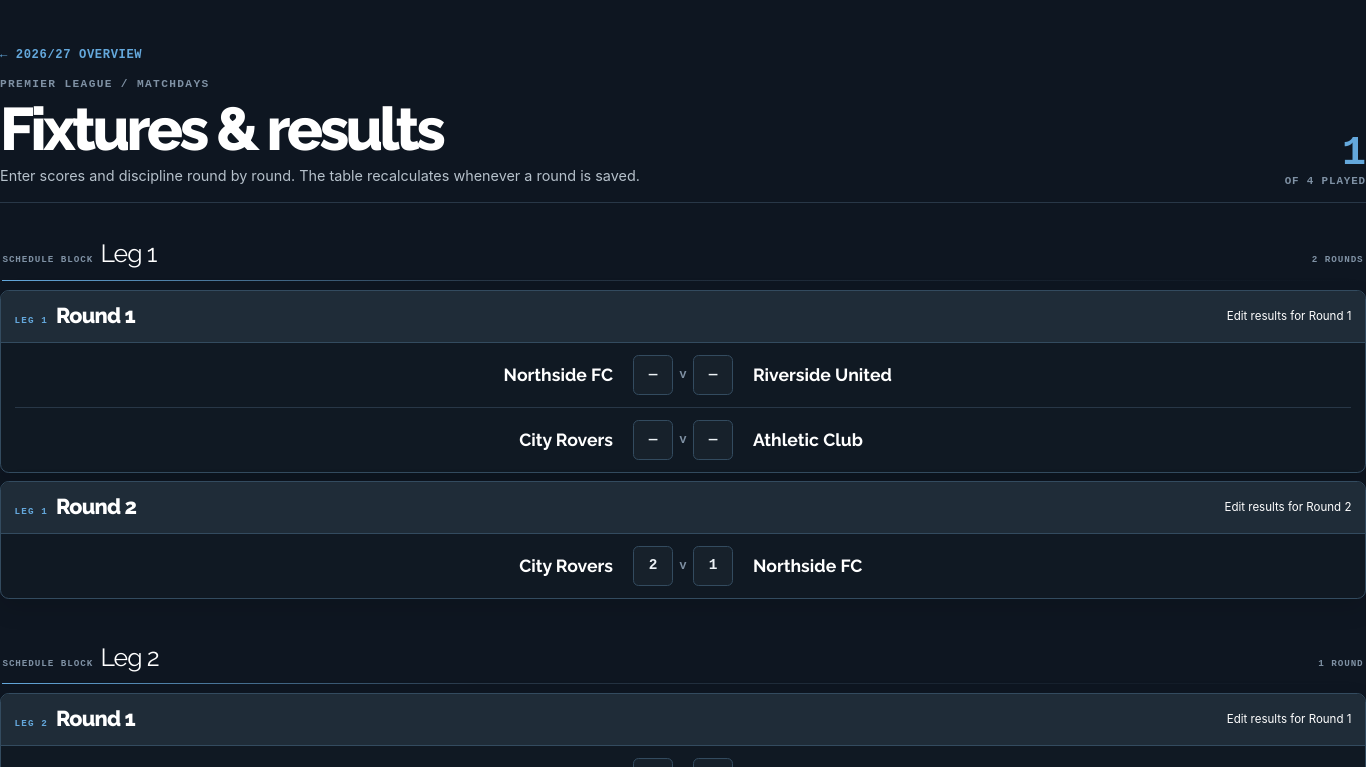
season fixtures view › edits and saves round scores and card counts
Click the button "Edit results for Round 1" below "2 rounds" at (1289, 316), box [1227,298,1351,334]
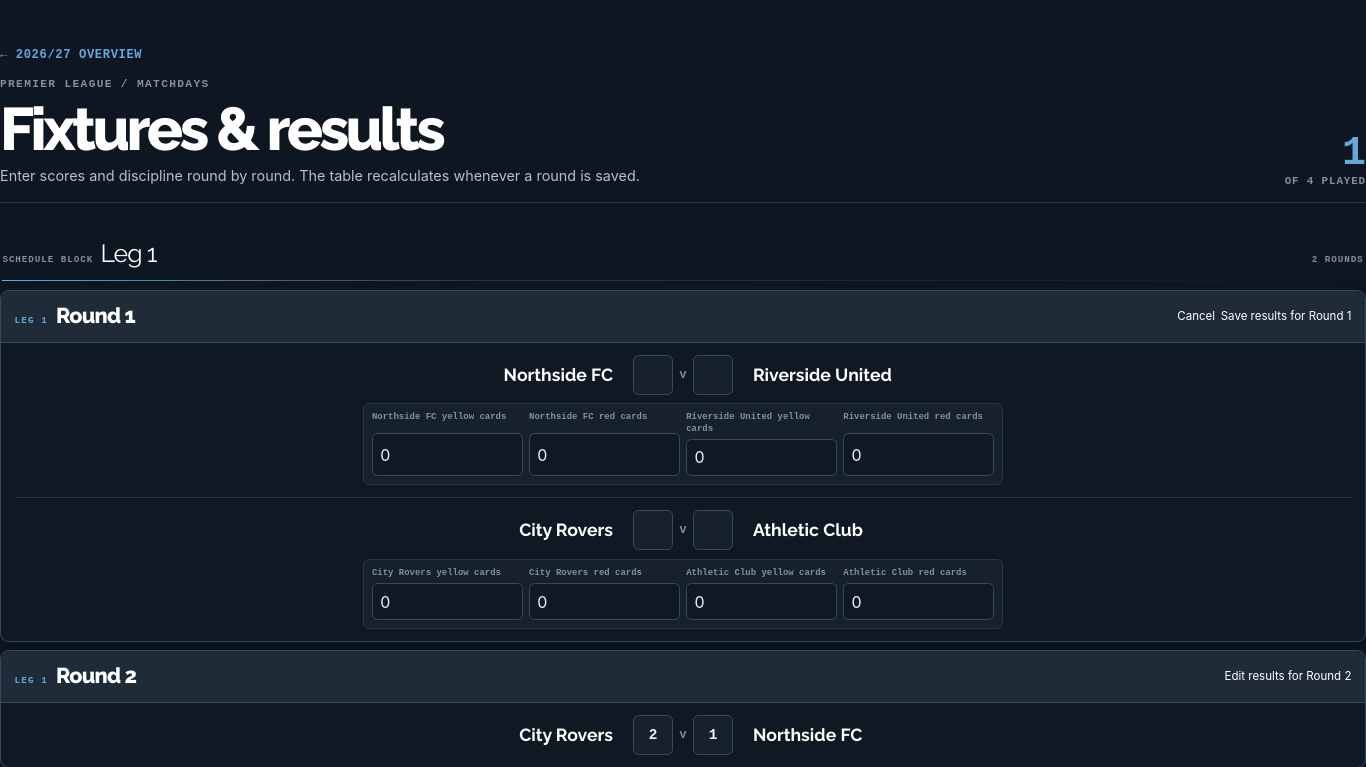
Type "3" into the 1st number field named "Northside FC score" at (653, 375), box [633,355,673,395]
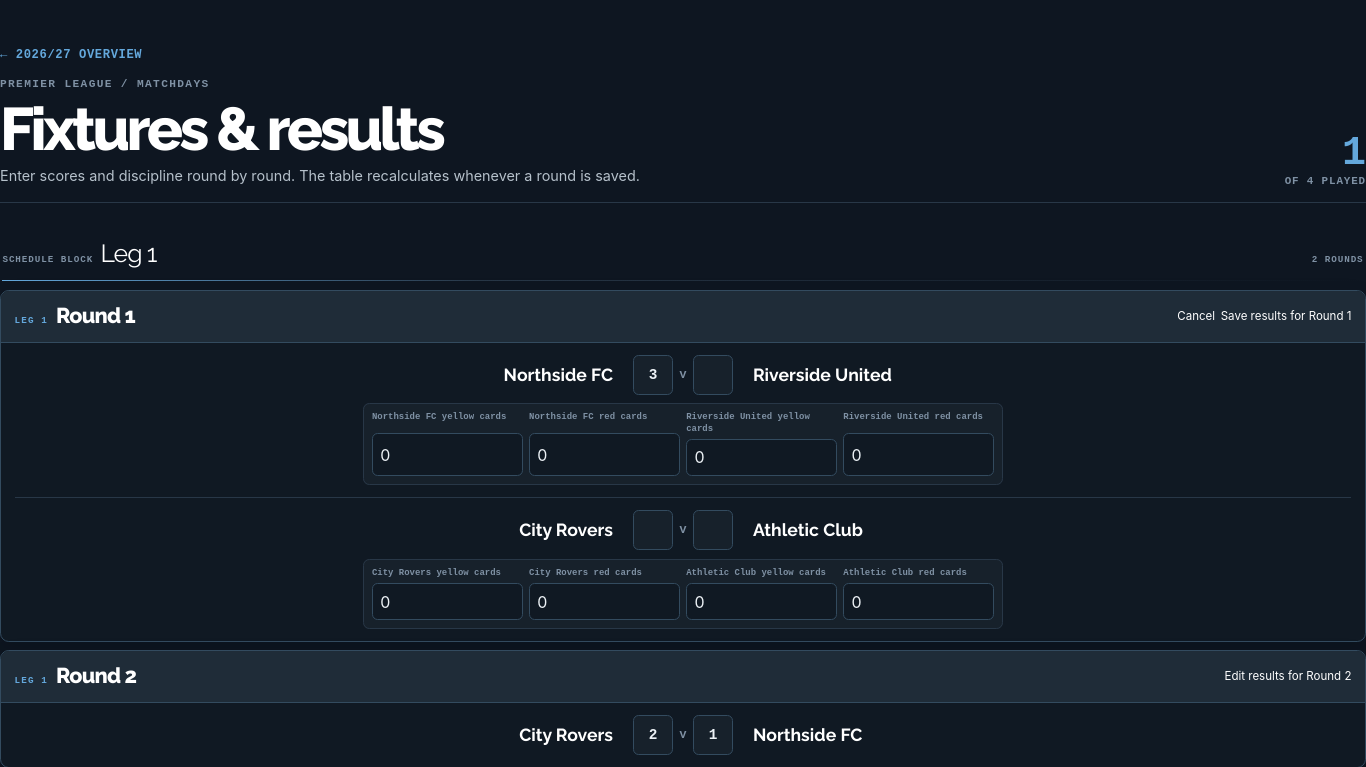
Type "2" into the 2nd number field named "Riverside United score" at (713, 375), box [693,355,733,395]
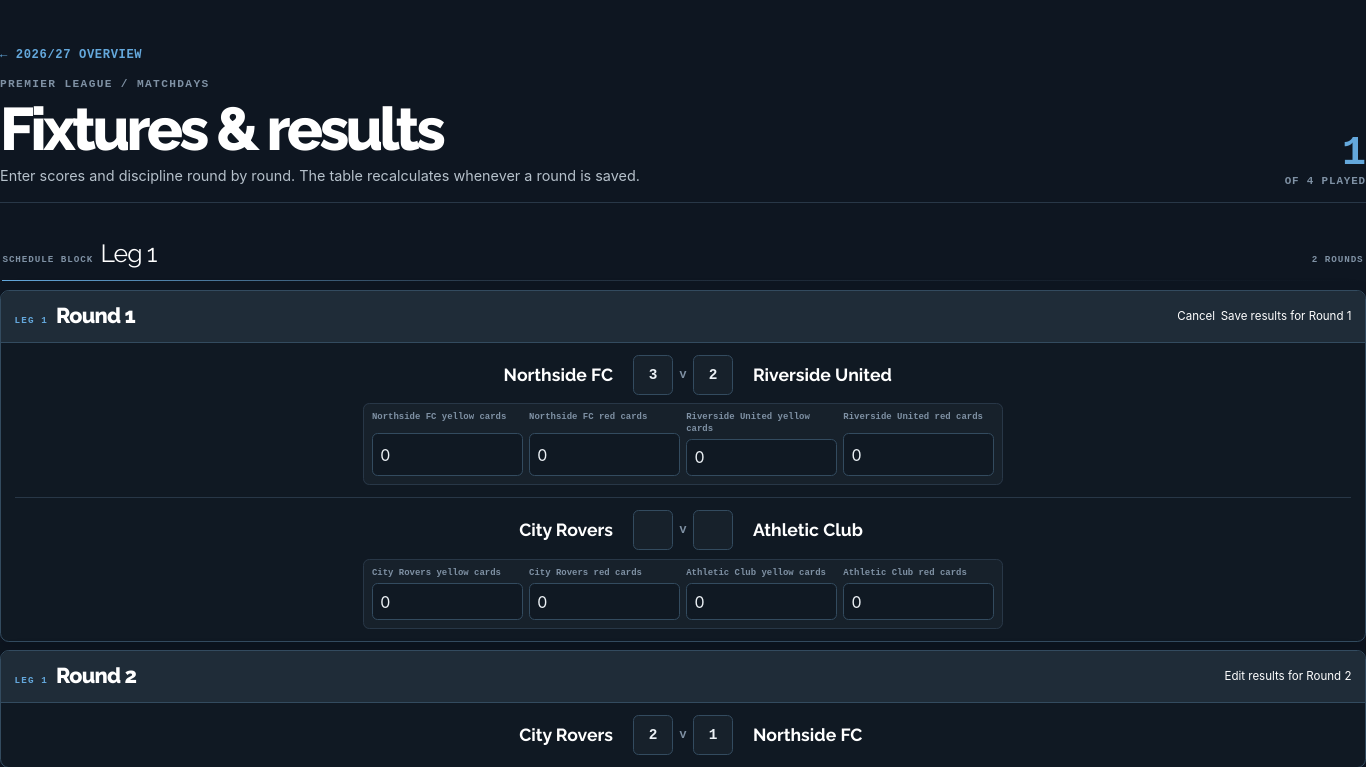
Replace the text in the number field labelled "Northside FC yellow cards" with "2" at (447, 455), box [372,433,523,476]
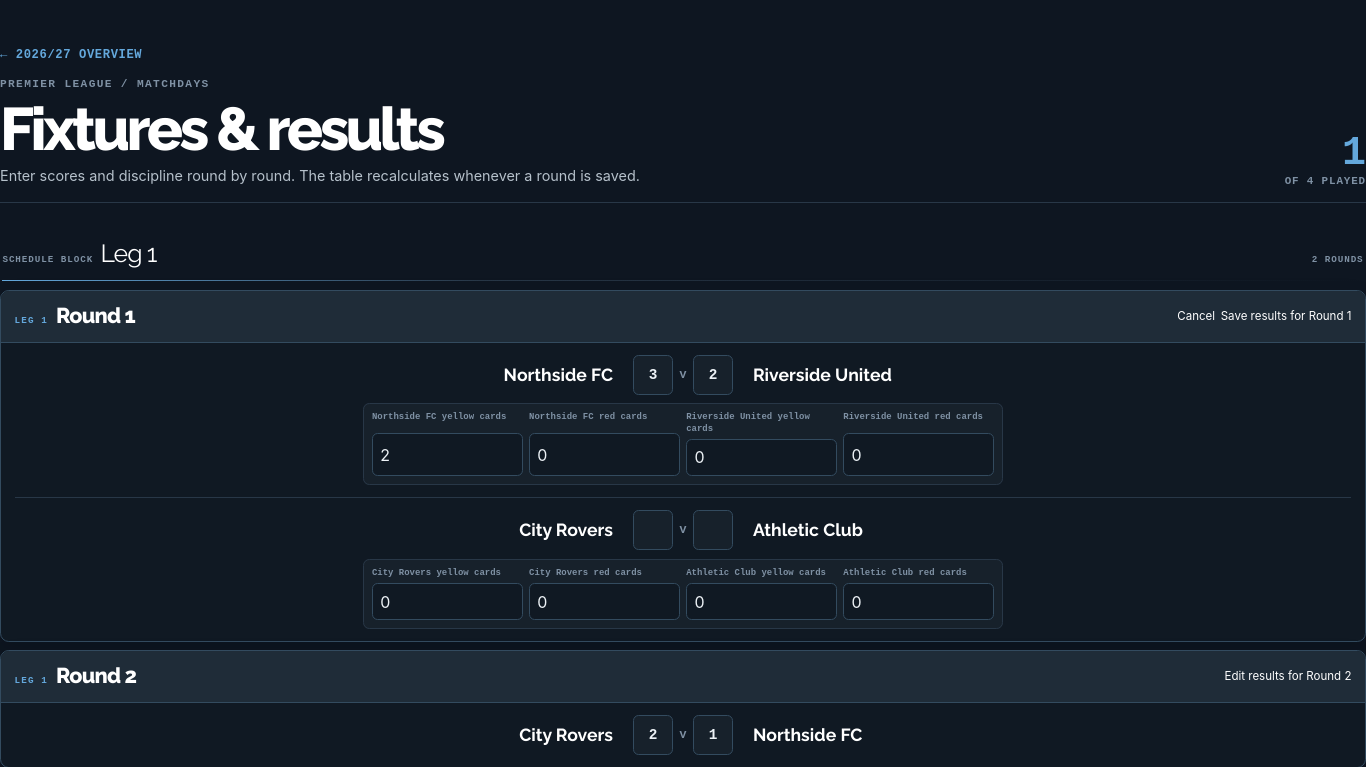
Replace the text in the number field labelled "Riverside United red cards" with "1" at (919, 455), box [843,433,994,476]
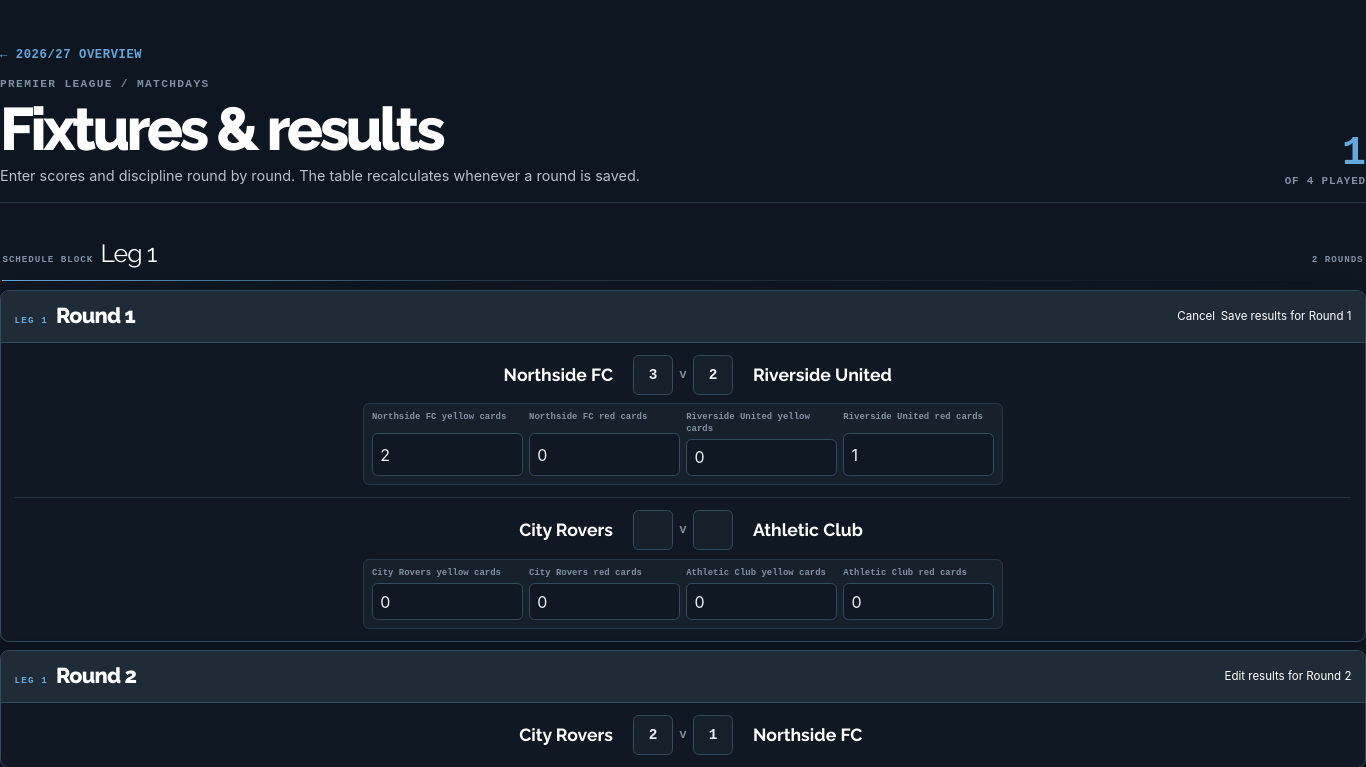
Click the button "Save results for Round 1" at (1286, 316), box [1221,298,1351,334]
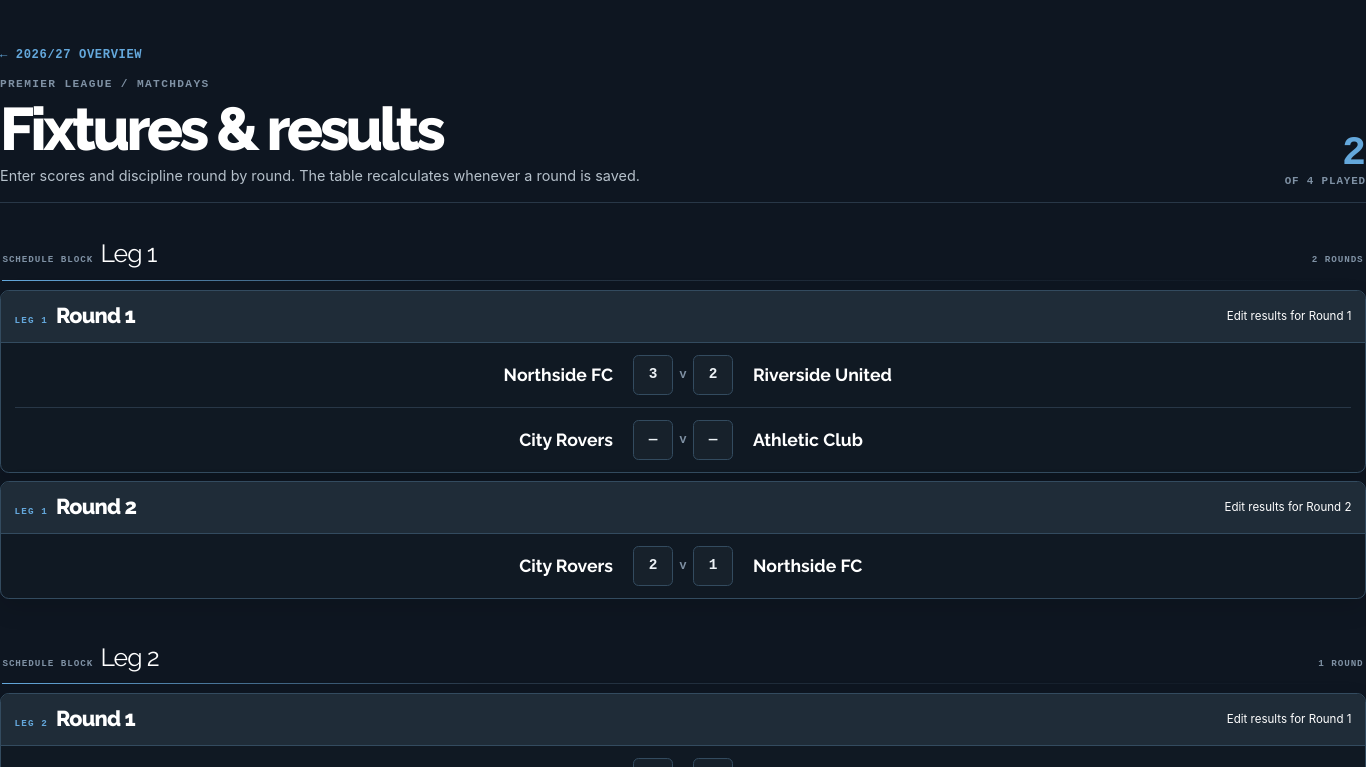
Result: the element named "Fixture progress" reads "2 of 4 played" at [1285,136,1365,186]
